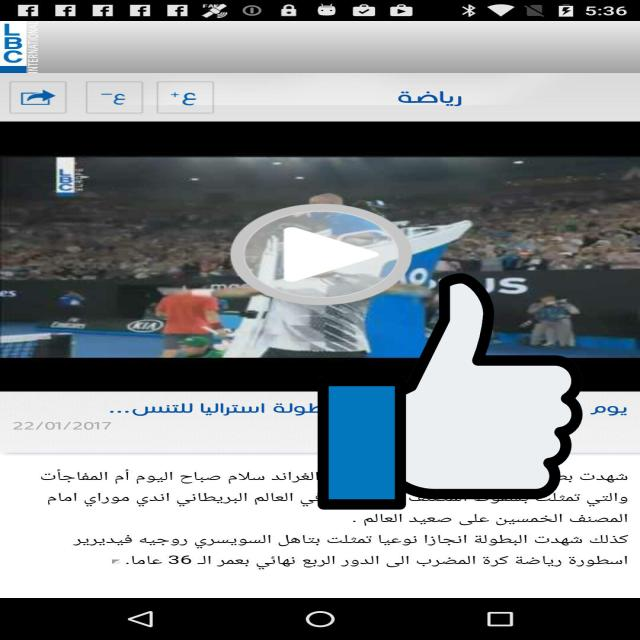privacy zuckering: (318, 268, 582, 515)
